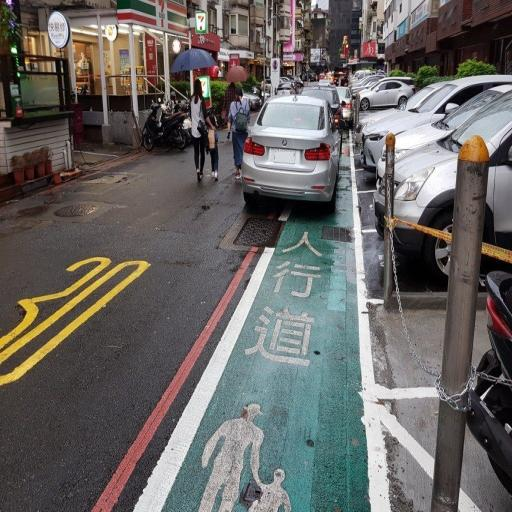car: (377, 92, 512, 245), (235, 84, 340, 215)
redline: (88, 243, 260, 512)
